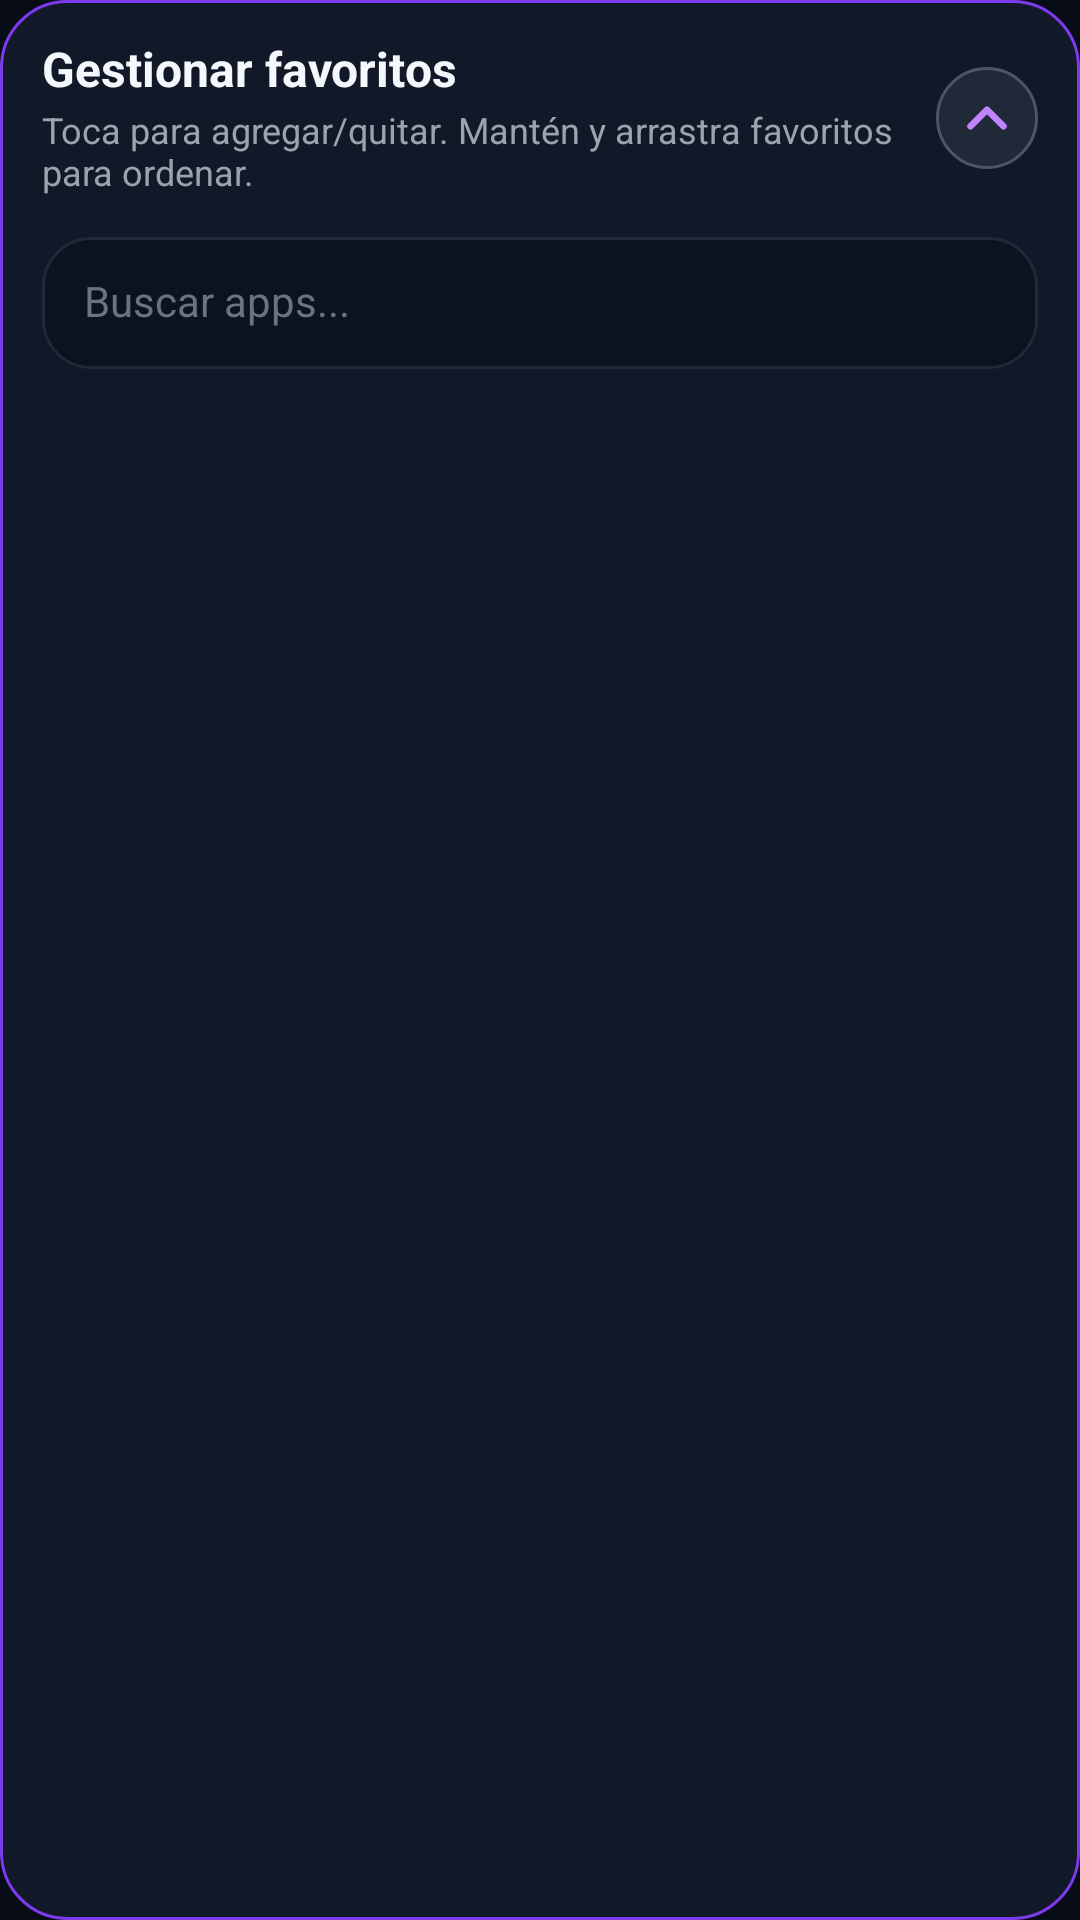

Icons on this 1080px x 1920px Android screen, each with the point to tap as (x=x, y=y):
chevron up: (x=987, y=118)
